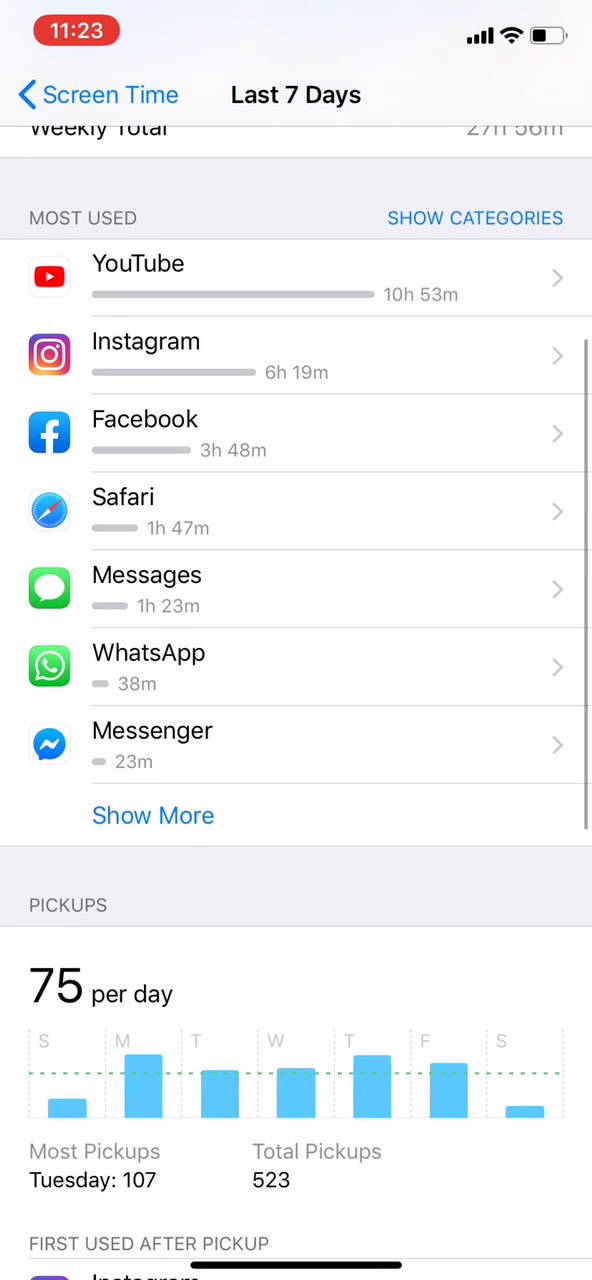pick_over: (20, 1136, 442, 1217)
week: (213, 77, 378, 116)
